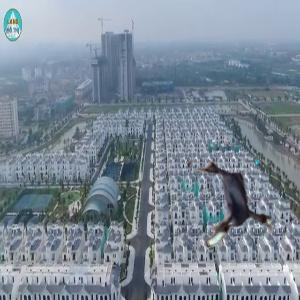drone: (171, 146, 285, 260)
